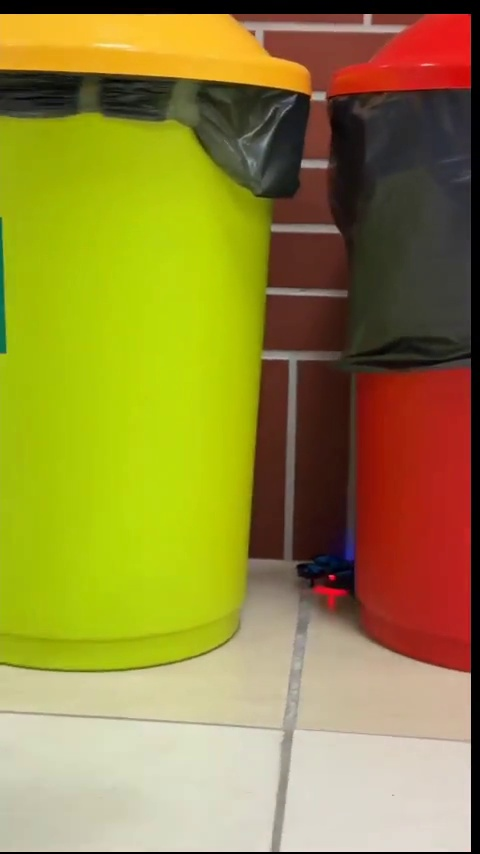drone: (293, 543, 347, 595)
